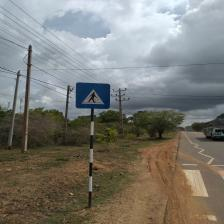blueboard: (75, 82, 111, 110)
crossing: (182, 131, 215, 165), (182, 168, 209, 198)
